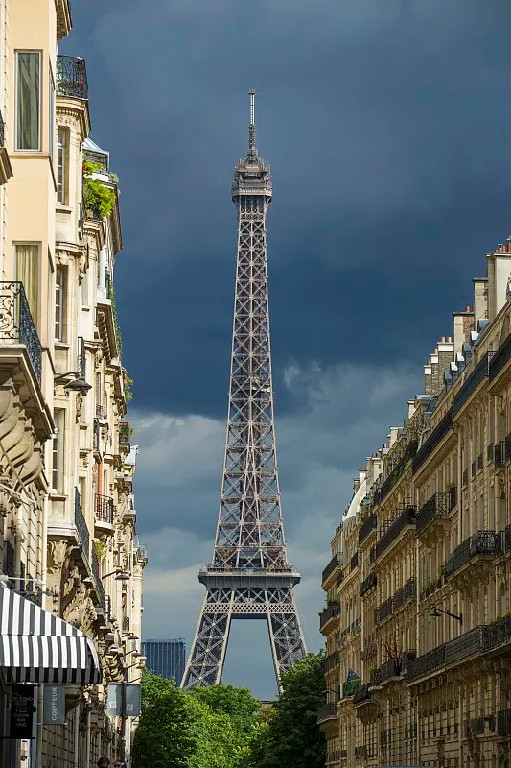Eiffel: (177, 90, 309, 704)
